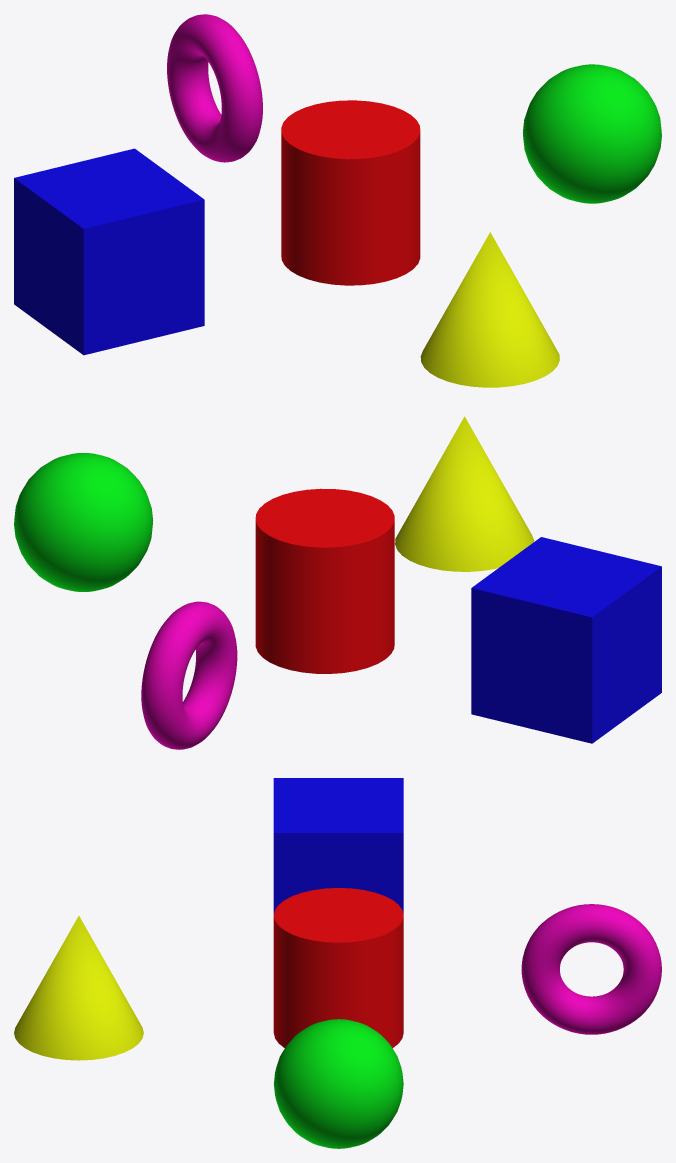
File: color3nonTrans.gltf
3 views of the same model, one above another, from view 1: azimuth 30°, elevation 25°; view 2: azimuth 150°, elevation 25°; view 3: azimuth 270°, elevation 25° (orthographic). The views are drawn at different scales.
Parts seen in each view (by area): view 1: Cube, Cylinder, Sphere, Cone, Torus.002; view 2: Cube, Cylinder, Sphere, Cone, Torus.002; view 3: Cylinder, Cube, Sphere, Torus.002, Cone.
Part boxes in pixels (left/top/right/bottom): Cube: left=14, top=148, right=204, bottom=355; Cylinder: left=281, top=100, right=420, bottom=285; Sphere: left=523, top=64, right=661, bottom=203; Cone: left=420, top=232, right=559, bottom=387; Torus.002: left=167, top=14, right=262, bottom=162; Cube: left=471, top=537, right=661, bottom=743; Cylinder: left=255, top=488, right=394, bottom=673; Sphere: left=14, top=453, right=152, bottom=591; Cone: left=395, top=416, right=534, bottom=571; Torus.002: left=141, top=601, right=237, bottom=749; Cylinder: left=273, top=888, right=403, bottom=1047; Cube: left=273, top=778, right=403, bottom=914; Sphere: left=274, top=1019, right=403, bottom=1148; Torus.002: left=521, top=904, right=661, bottom=1034; Cone: left=14, top=916, right=143, bottom=1060.
Size of the model in its own units: 10 by 2.16 by 9.98.
